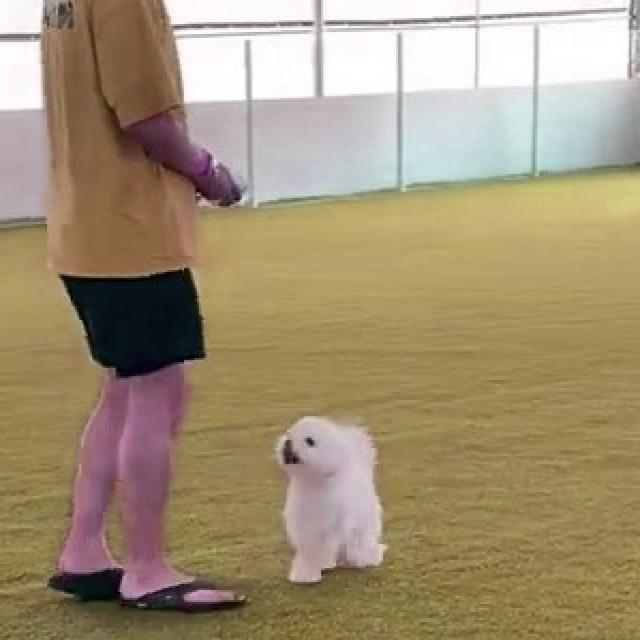Unleashed_Dog: (116, 418, 387, 614)
